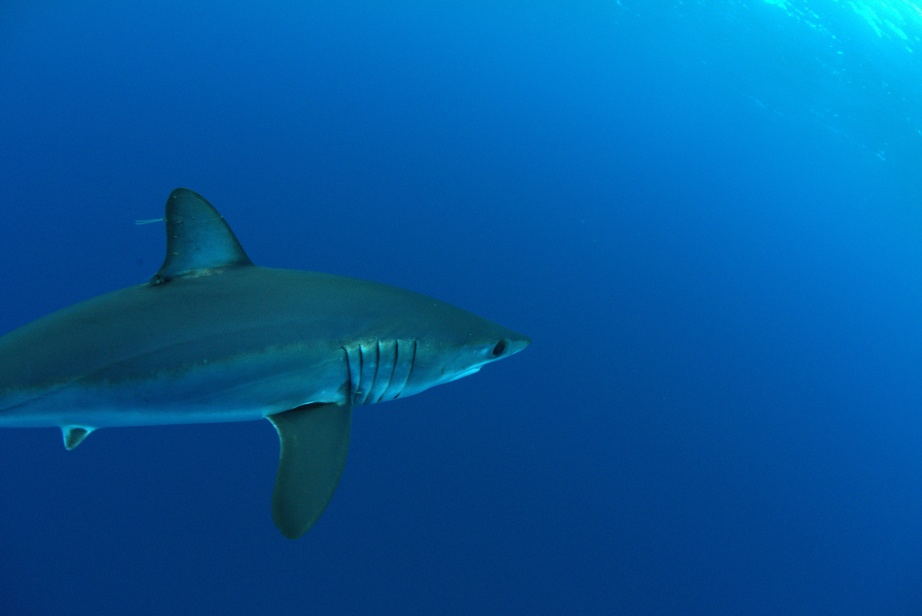Mako: (1, 184, 540, 565)
